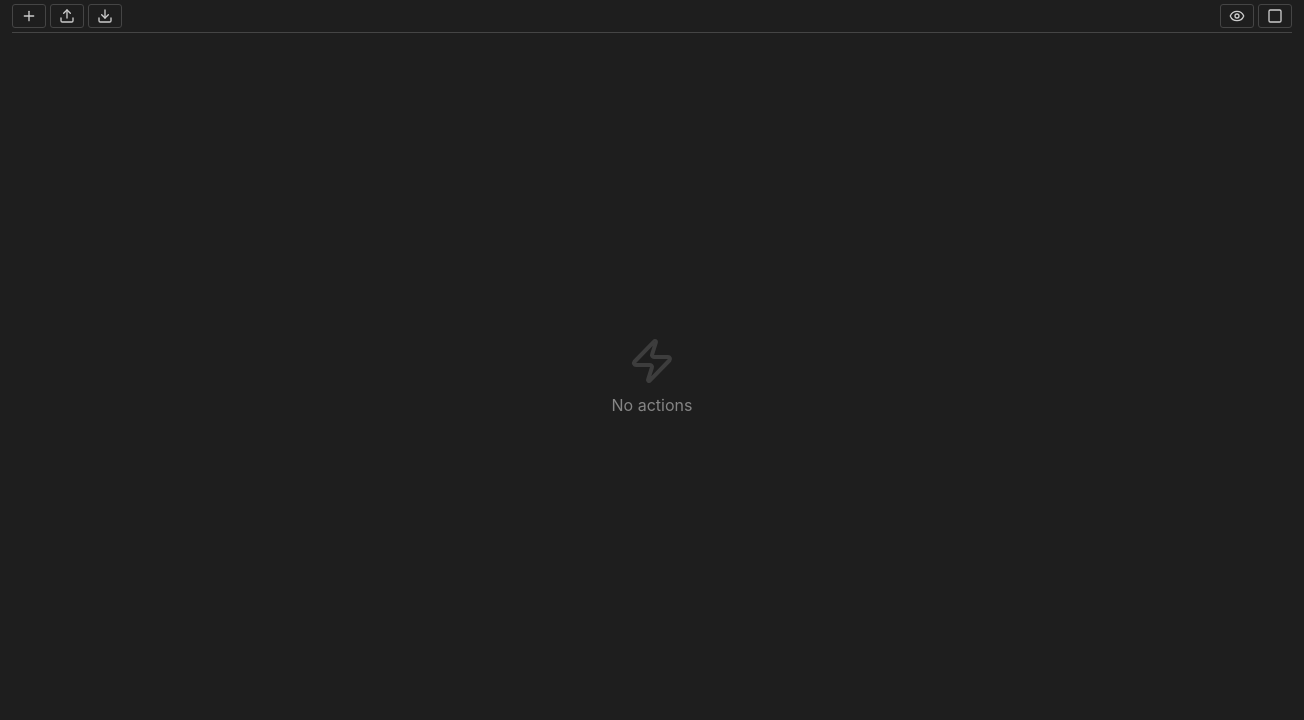
Test: ActionManager Component › should toggle the add action form
The image size is (1304, 720).
Click the button titled "Add Action" at (29, 16), box [12, 4, 46, 28]
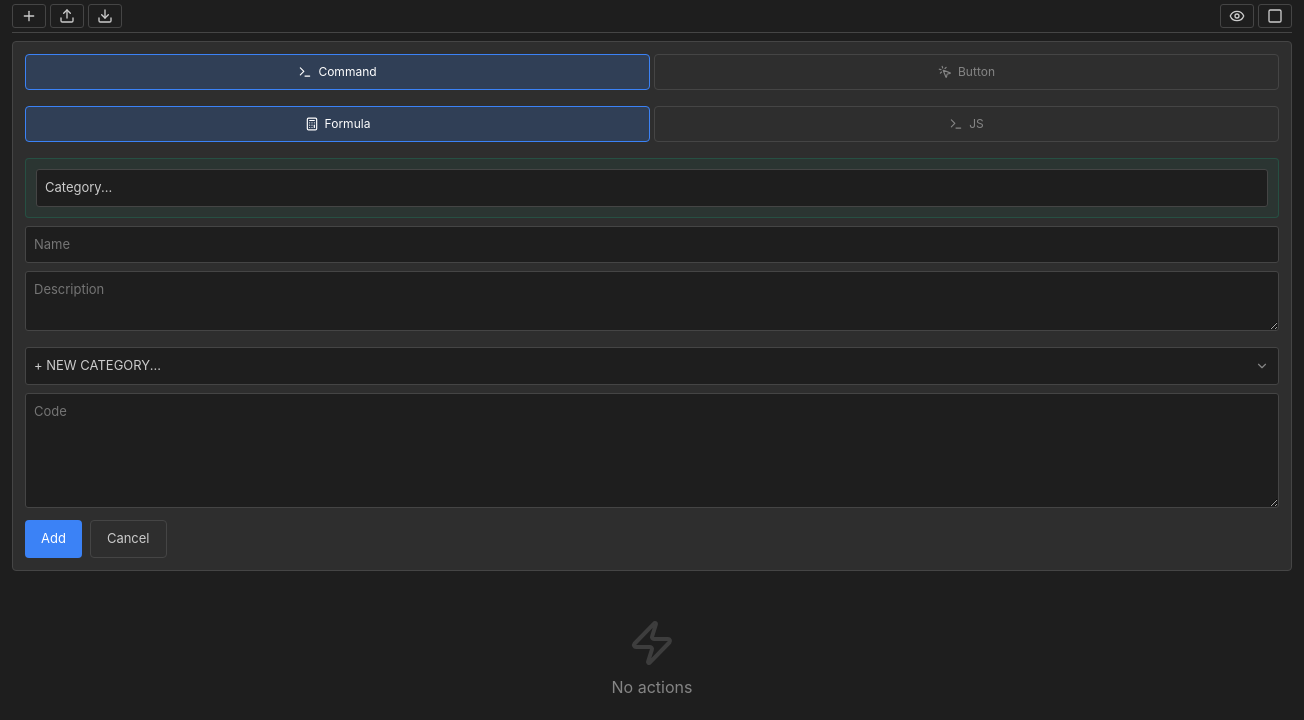
Expected: the field with placeholder "Name" is shown, [25, 226, 1279, 263]
Expected: the button "Command" is shown, [25, 54, 650, 90]
Expected: the button "Button" is shown, [654, 54, 1279, 90]
Click the button "Cancel" at (128, 539), box [90, 520, 166, 558]
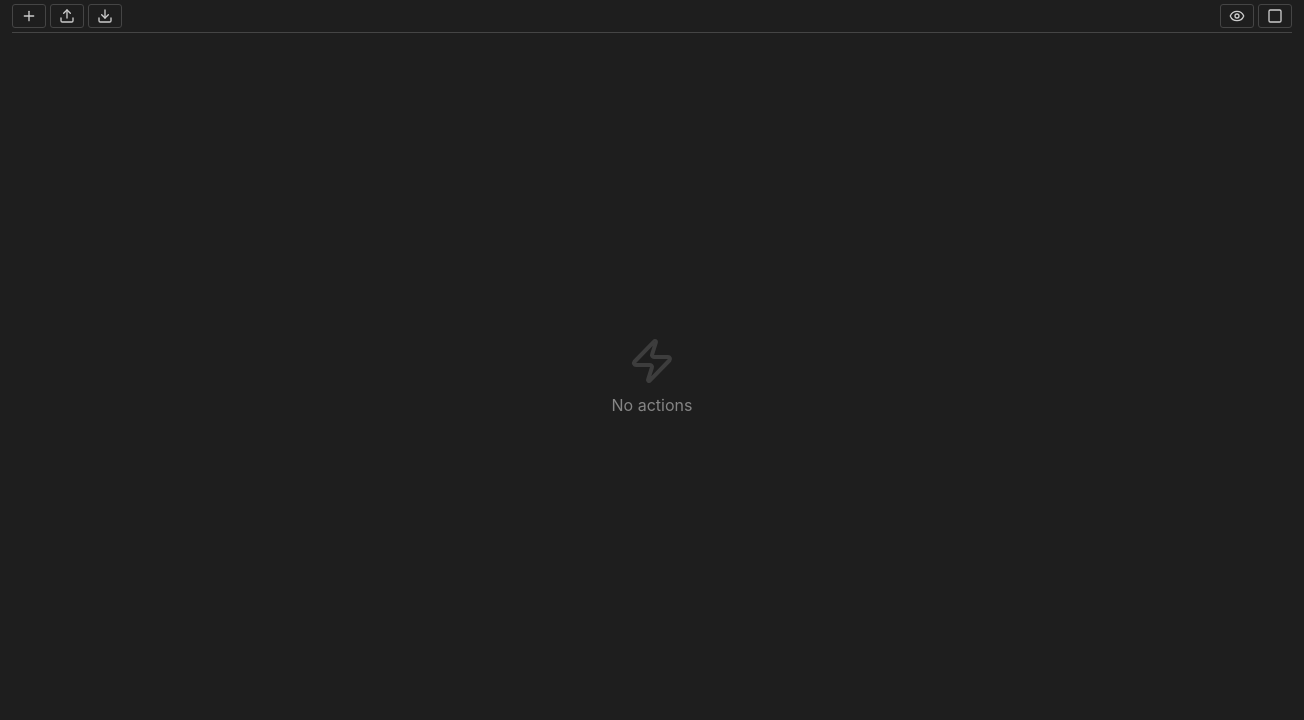
Expected: the field with placeholder "Name" is gone
